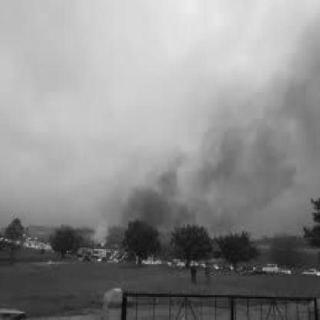Fire: (138, 250, 170, 268)
Smoke: (120, 175, 214, 228)
